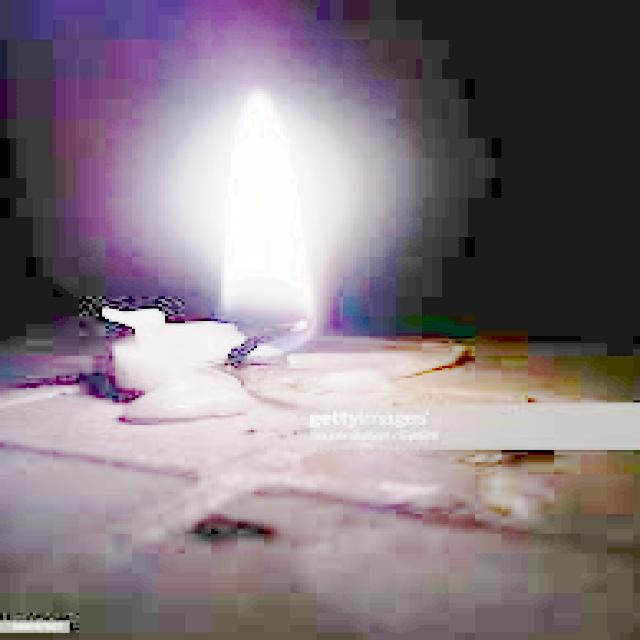api: (209, 82, 344, 347)
